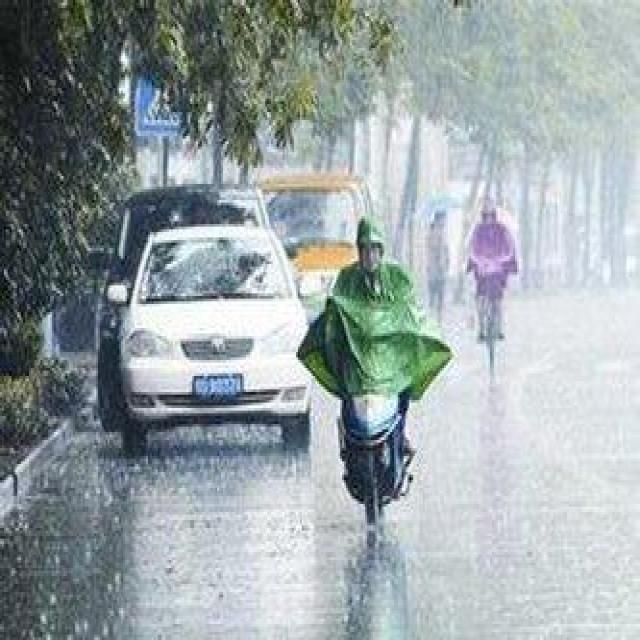car: (104, 221, 314, 451), (96, 181, 275, 432), (259, 170, 386, 322)
